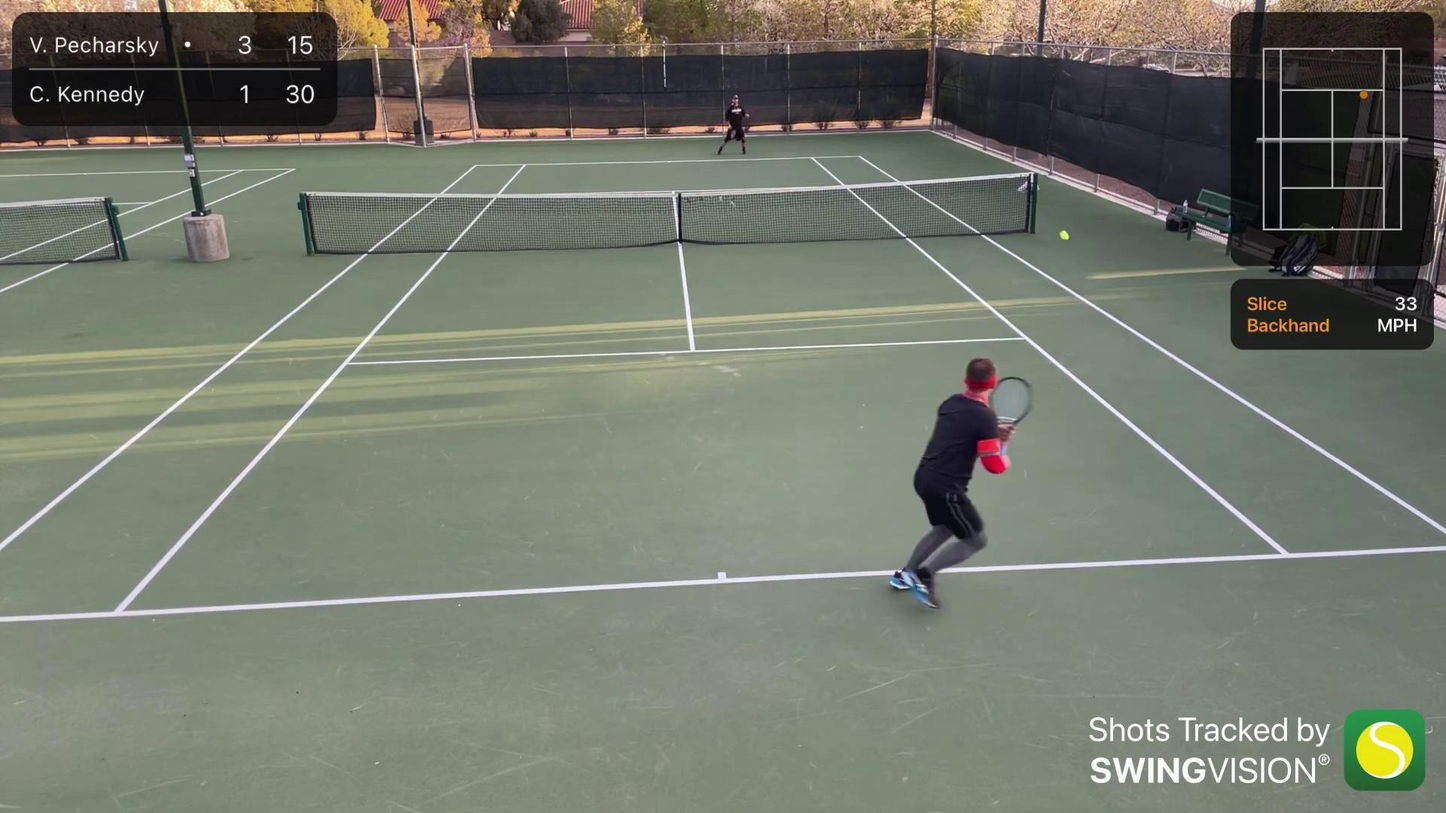ball: (1058, 230, 1072, 241)
